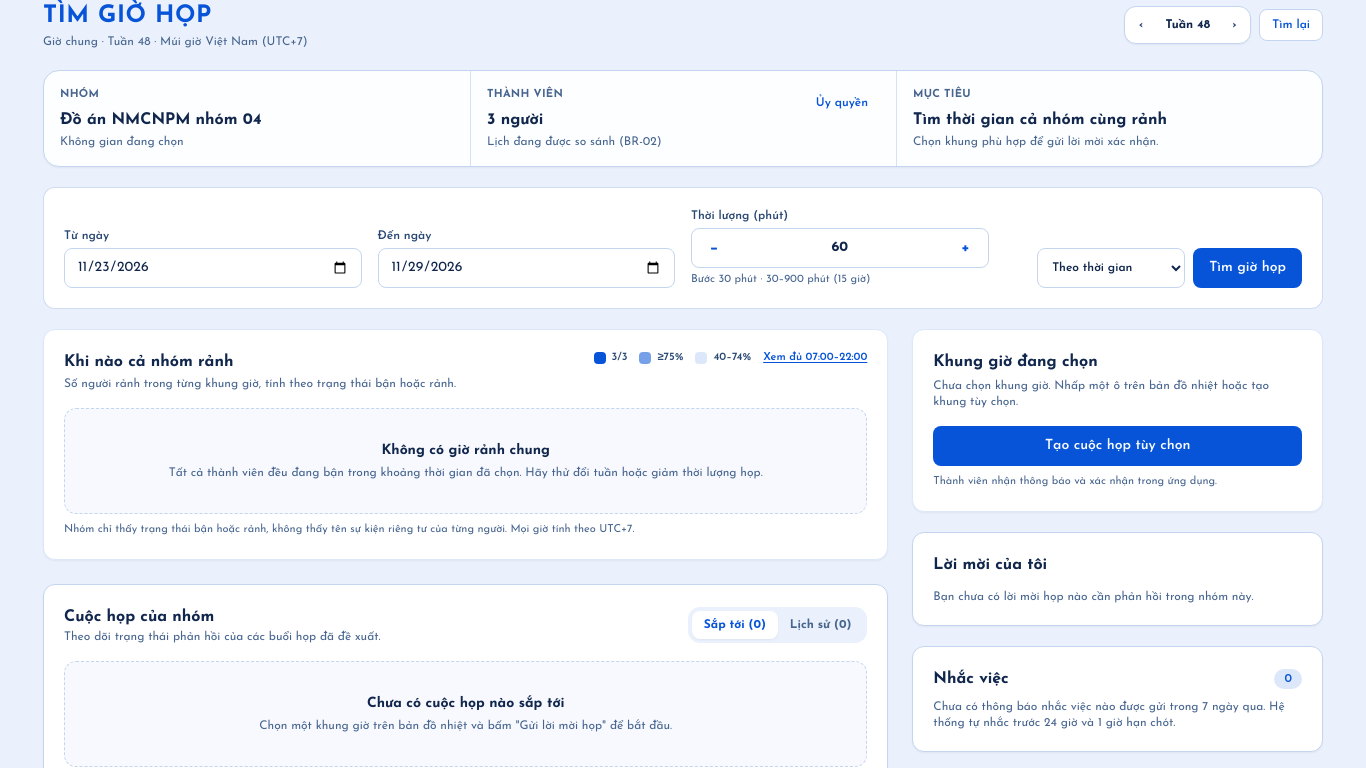
it: MeetingsPage (TV4) › mở Tạo cuộc họp tùy chọn (không có khung): không hiện nhãn Lịch trống cho thành viên
Click the button "Tạo cuộc họp tùy chọn" at (1118, 446), box [933, 426, 1302, 466]
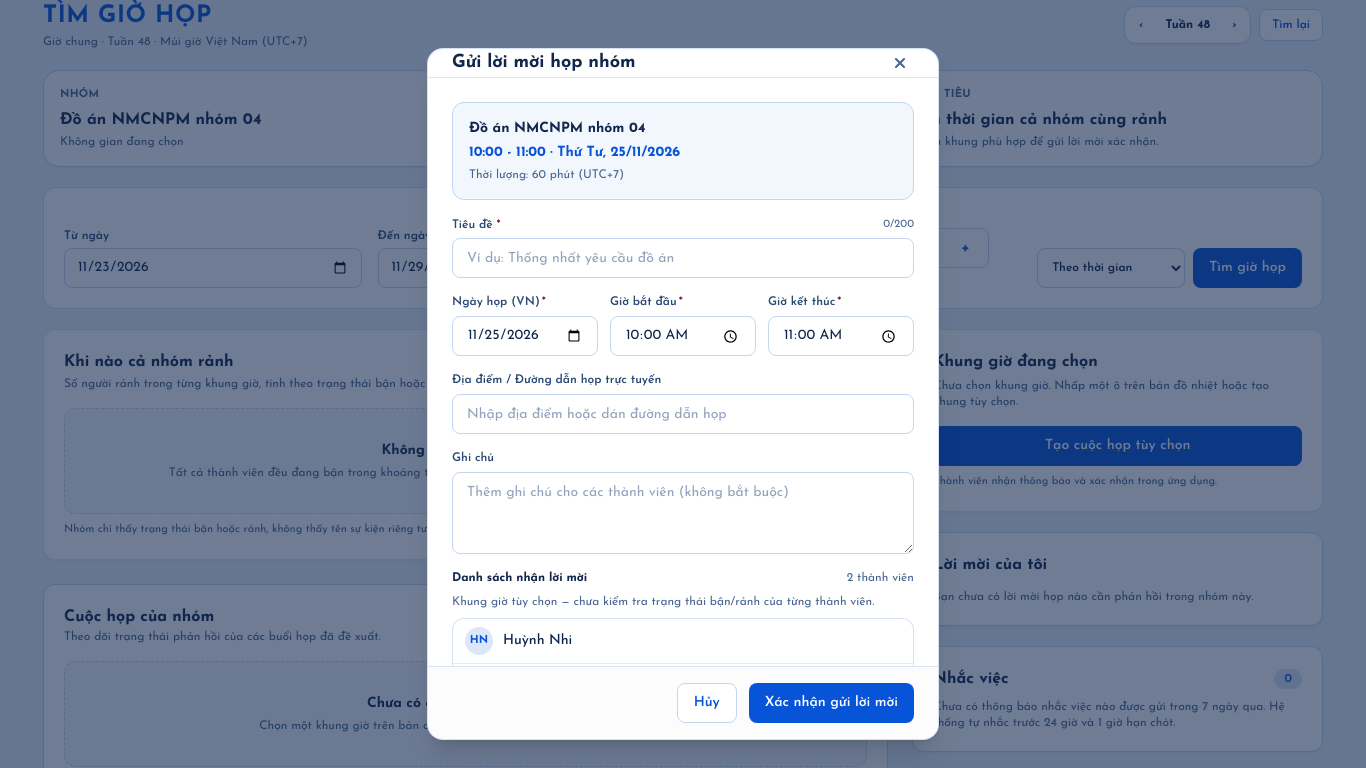
Expected: the text "chưa kiểm tra trạng thái bận/rảnh" is shown, [452, 596, 874, 608]
